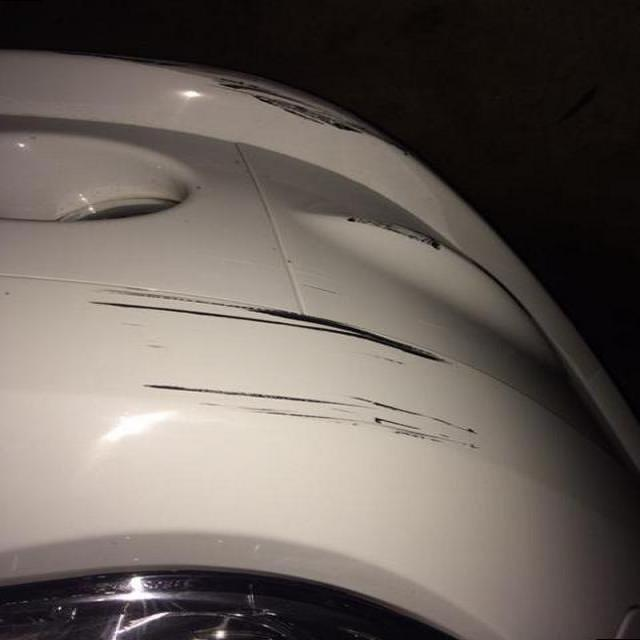scratch: (76, 276, 508, 462), (204, 68, 383, 146), (340, 205, 448, 260)
